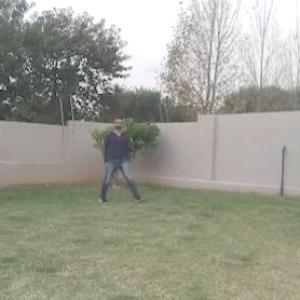follow: (104, 108, 126, 200)
